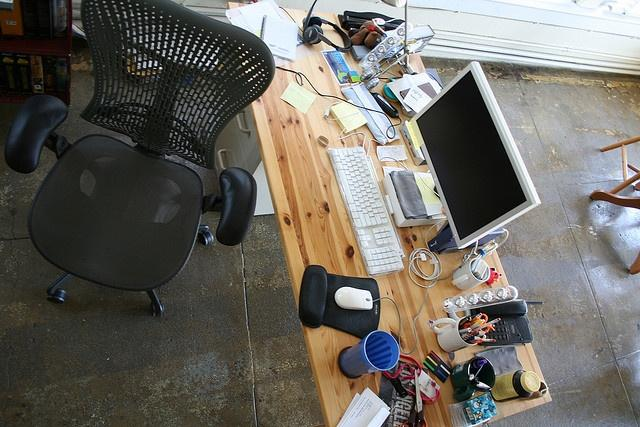AIO PC-Monitor-TV: (409, 59, 542, 250)
Kursi: (3, 0, 275, 318)
Meja: (226, 0, 553, 426)
